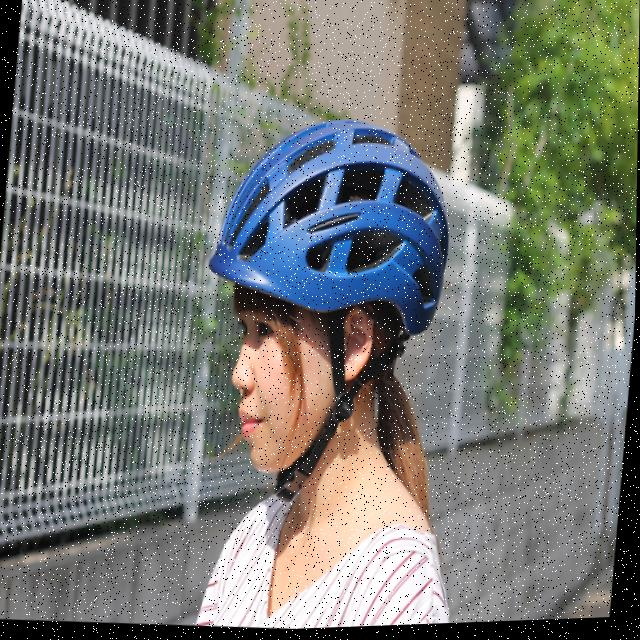illegal_helmet: (184, 92, 468, 527)
